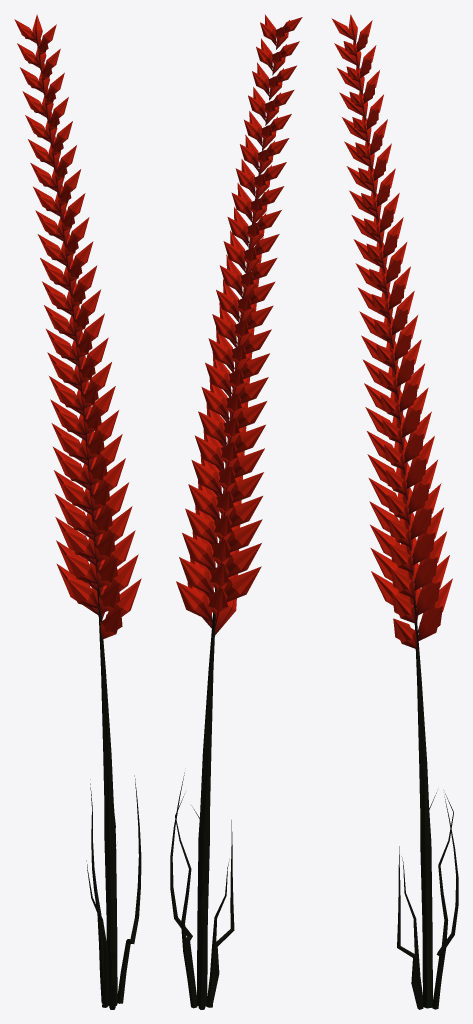
The model's file is Plant-1.fbx.
3 renders of one model, left to right at view 1: azimuth 30°, elevation 25°; view 2: azimuth 150°, elevation 25°; view 3: azimuth 330°, elevation 25°, orthographic. The views are drawn at different scales.
Visible parts, largest first — view 1: file1; view 2: file1; view 3: file1.
Part boxes in pixels (x1=…): file1: x1=14, y1=14, x2=141, y2=1009; file1: x1=170, y1=14, x2=302, y2=1009; file1: x1=331, y1=14, x2=458, y2=1009.
Size of the model in its own units: 0.2527 by 1.91 by 0.1395.
